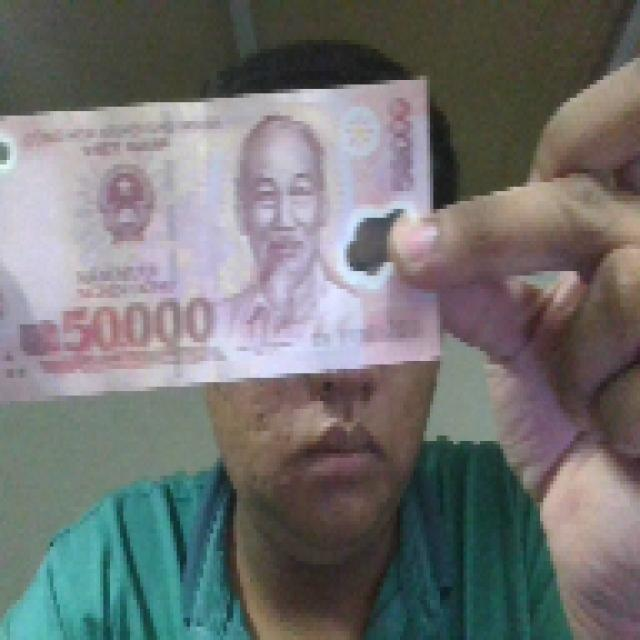50 000 VND: (0, 71, 443, 404)
